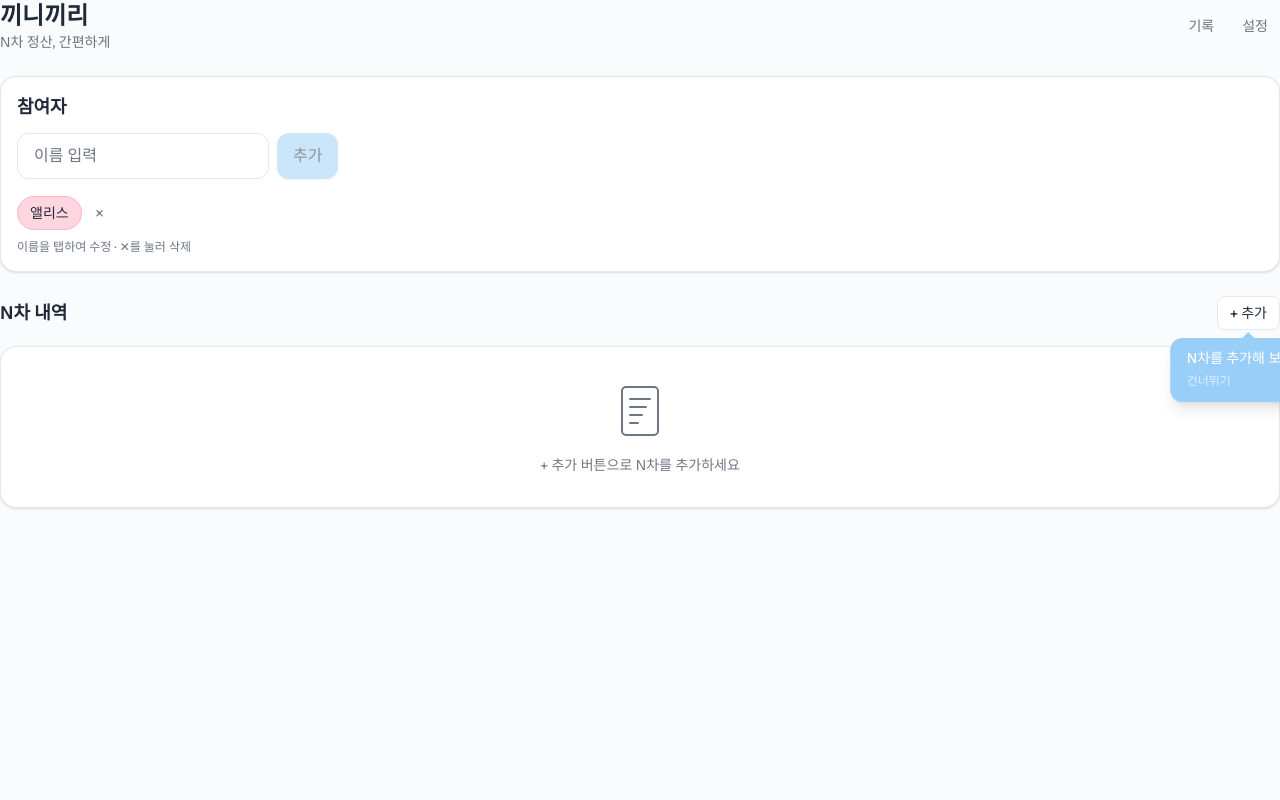
MainPage - 참여자 관리 › X 버튼 클릭 시 삭제 모달 표시
The width and height of the screenshot is (1280, 800).
Click the button named "앨리스 삭제": (100, 213) [78, 191, 122, 235]
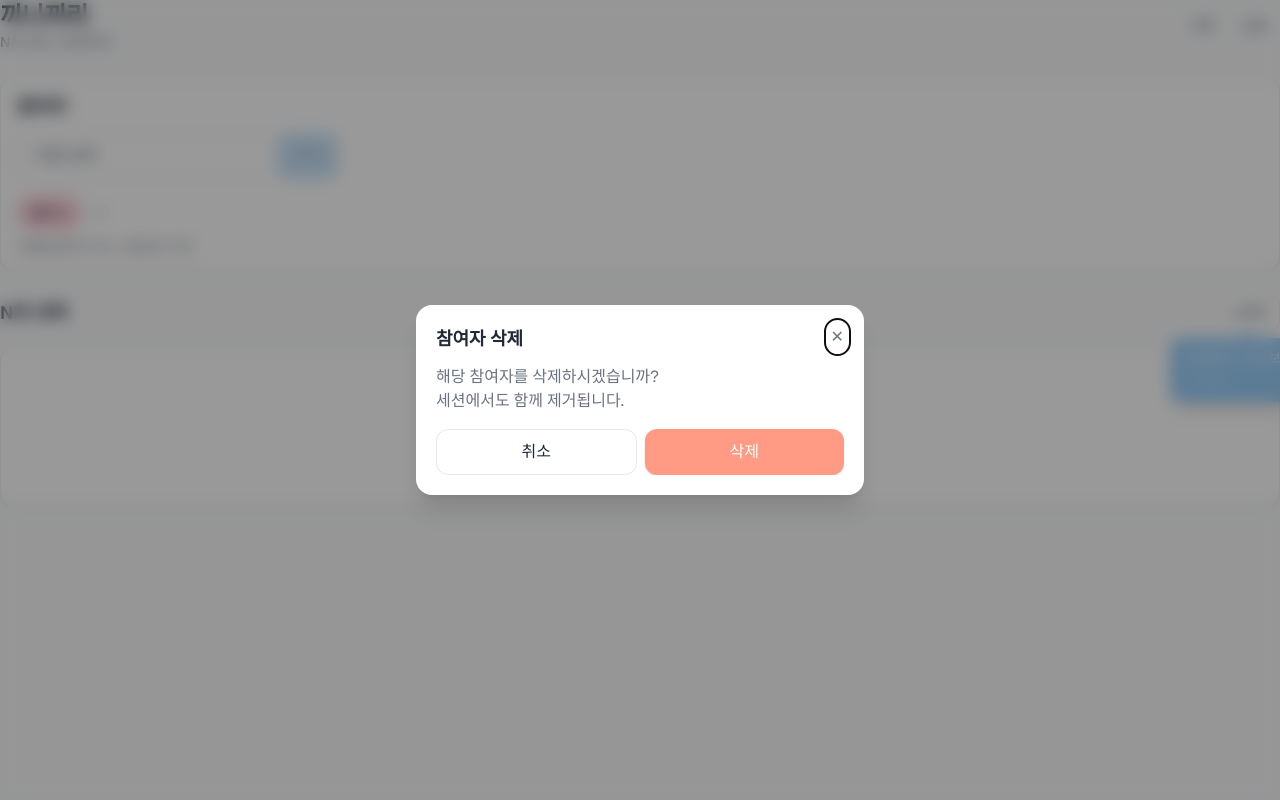
Now the heading "참여자 삭제" is shown, box [436, 327, 523, 350]
